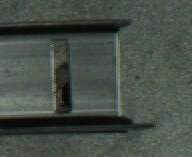40ngpress: (11, 21, 141, 129)
